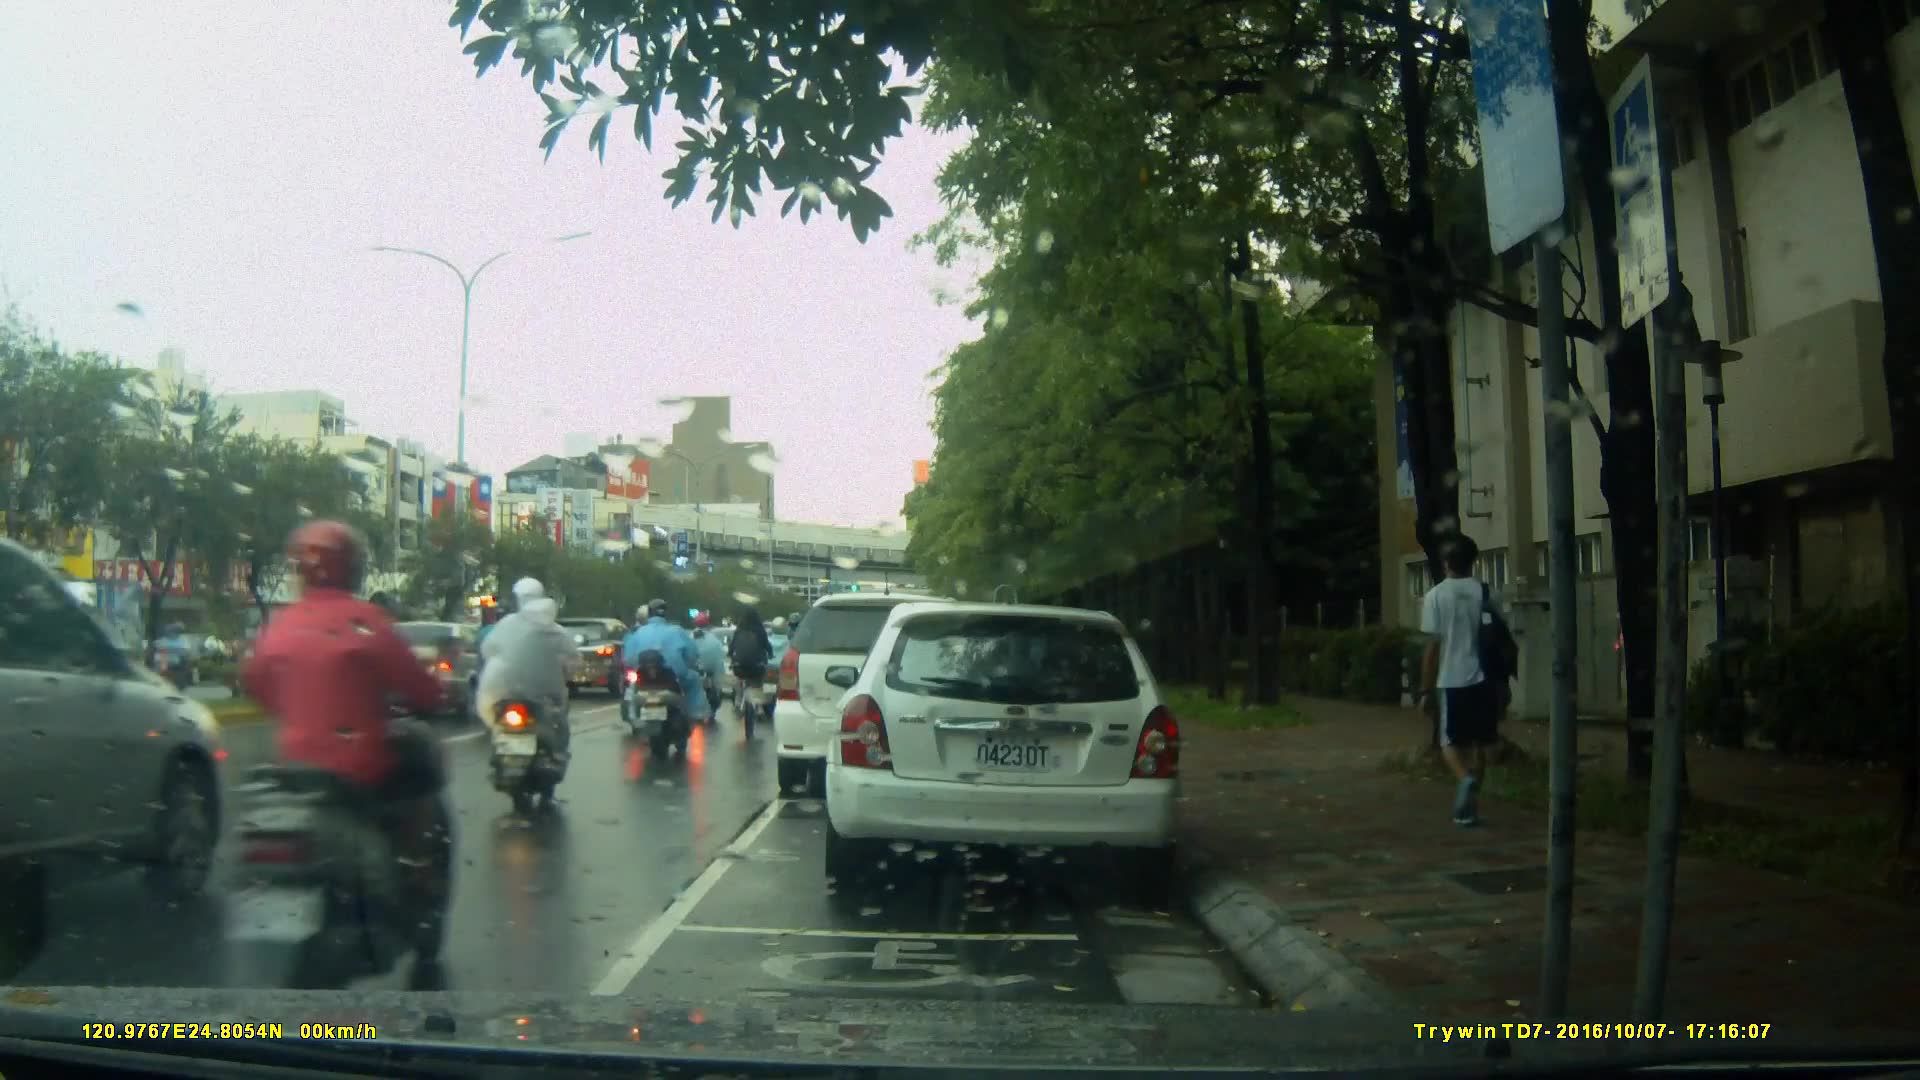pedestrian: (1422, 522, 1530, 861)
rider: (213, 505, 475, 1005), (477, 580, 580, 817), (633, 603, 706, 761), (731, 603, 780, 756), (469, 606, 519, 740), (677, 607, 730, 718), (755, 619, 791, 714)
vehicle: (822, 604, 1188, 882), (1, 535, 231, 920), (774, 595, 995, 802), (349, 619, 512, 724), (537, 617, 652, 704), (144, 630, 241, 686)
